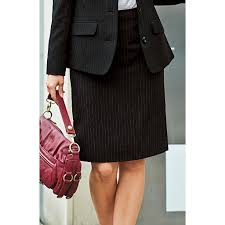F_tailored skirt: (66, 5, 177, 163)
